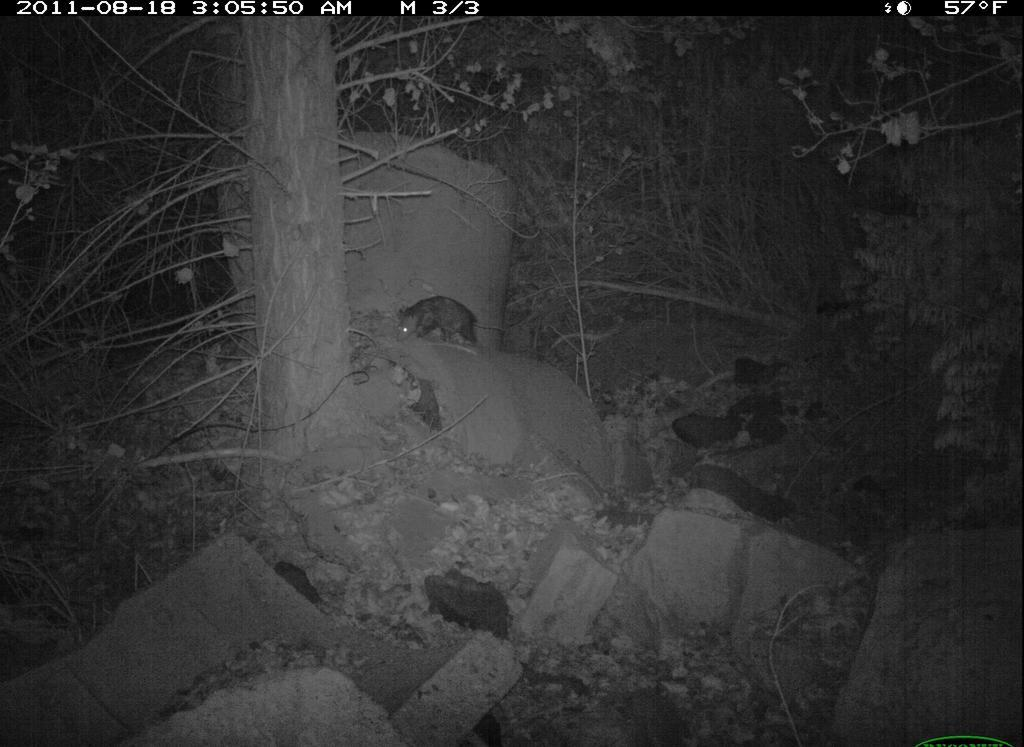opossum: (386, 286, 531, 353)
